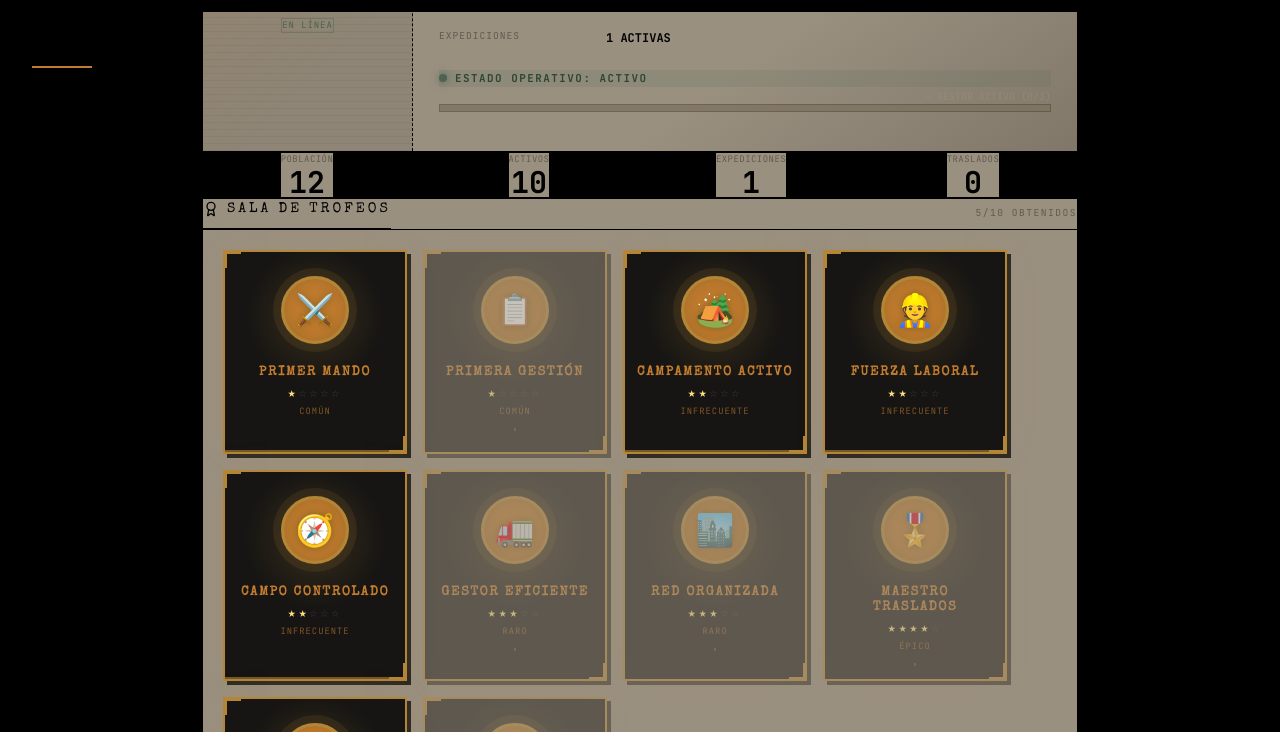
Admin → AdminProfile › opens trophy modal when a trophy card is clicked
This screenshot has width=1280, height=732.
(page scrolled)
Click the text "PRIMER MANDO": [315, 372] box [259,365,371,380]
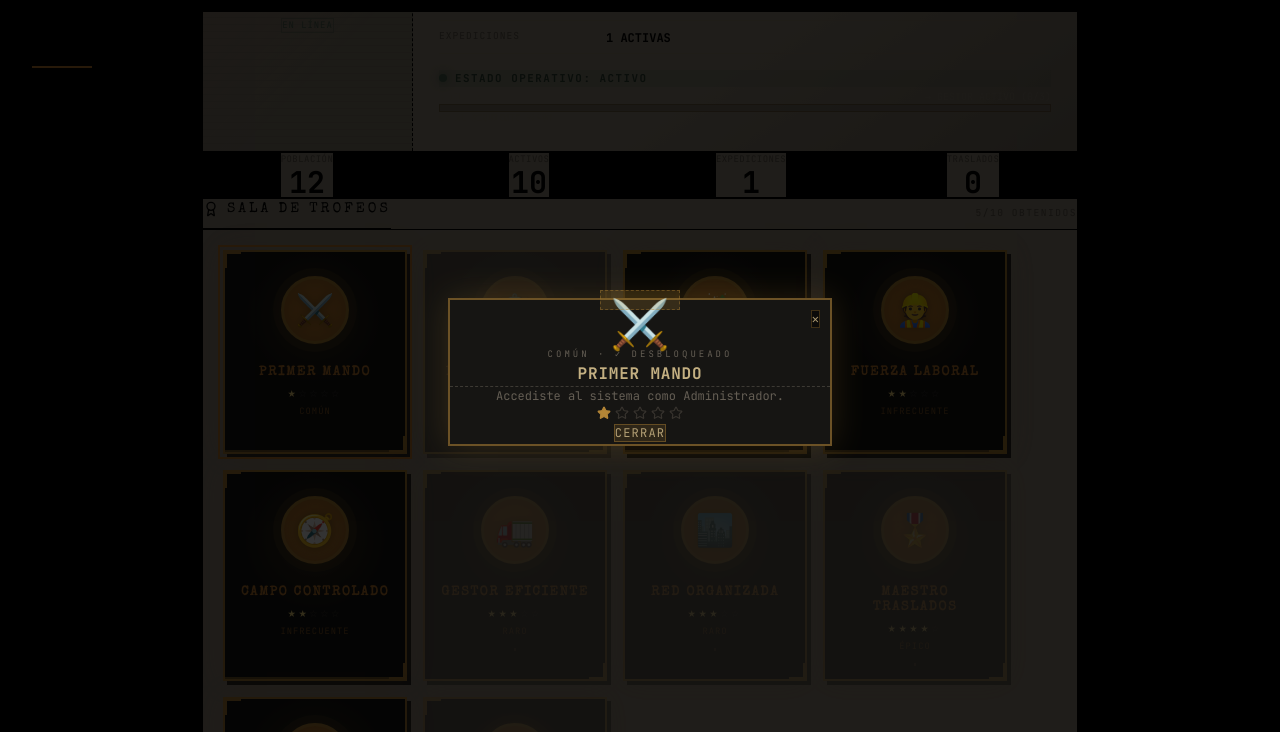
expect the text "Accediste al sistema como Administrador." is shown: met, box [496,388,784,404]
